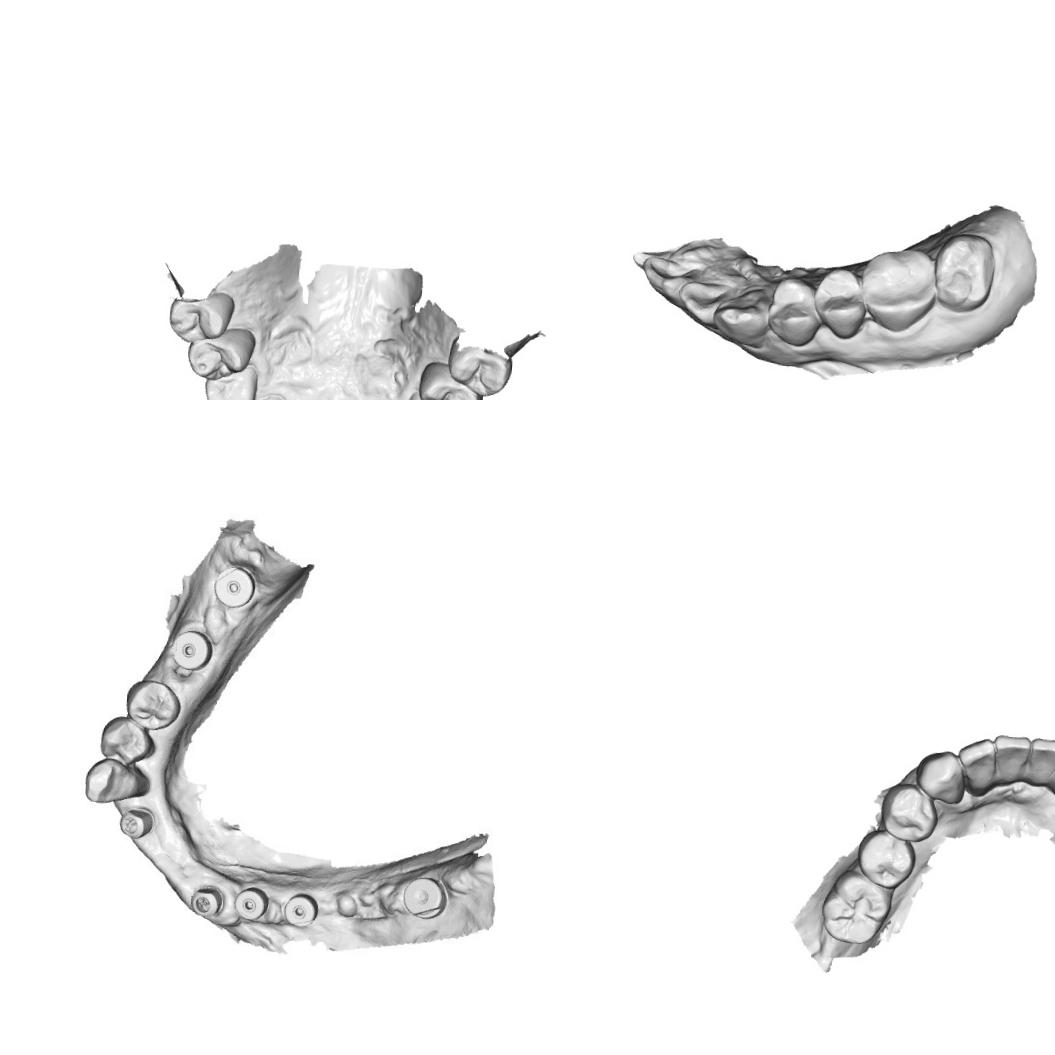canine: (706, 279, 780, 352), (81, 756, 152, 813), (914, 746, 967, 806), (200, 359, 258, 400)
implant: (400, 868, 450, 920), (210, 564, 262, 612), (116, 806, 158, 848), (171, 628, 211, 672), (278, 893, 317, 928), (186, 884, 222, 920), (234, 885, 268, 922)
incisor: (674, 268, 740, 330), (638, 249, 702, 310), (955, 734, 997, 797), (988, 730, 1034, 786), (1025, 731, 1055, 789)
molar: (852, 242, 940, 336), (928, 228, 1001, 319), (817, 866, 894, 948)
premolar: (161, 285, 236, 348), (184, 322, 258, 385), (853, 824, 921, 892), (810, 264, 869, 342), (876, 778, 943, 844), (765, 276, 824, 350), (444, 342, 514, 399), (414, 358, 484, 400), (96, 714, 152, 764), (126, 679, 180, 730)
